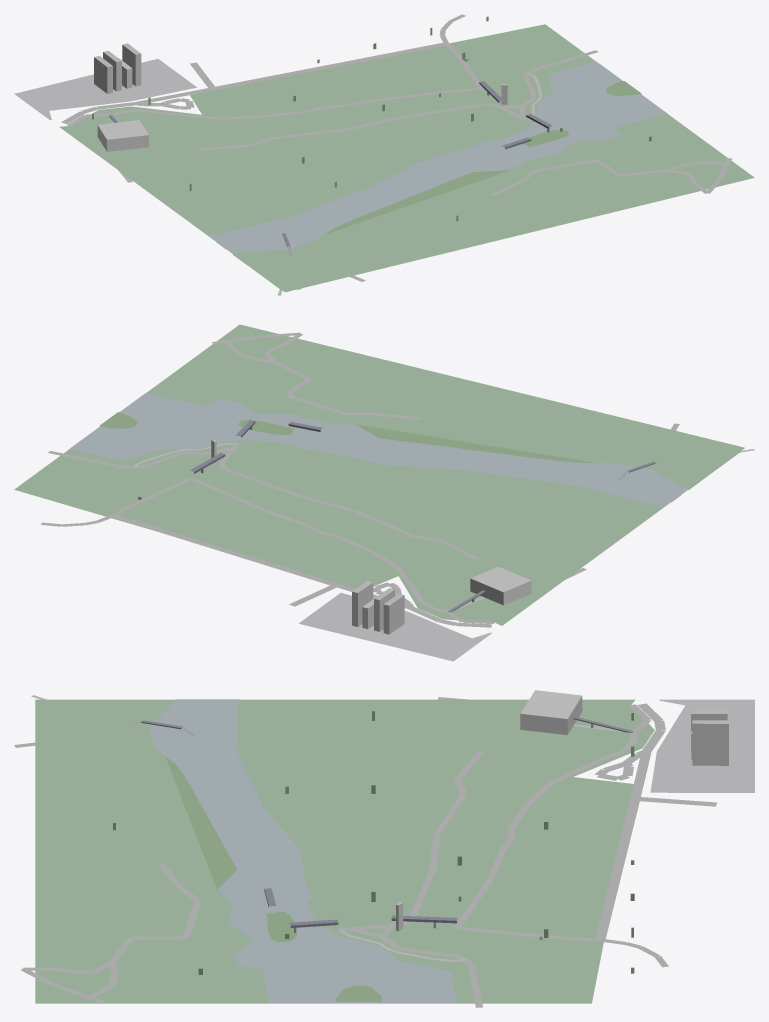
3 views of the same model, one above another, from view 1: azimuth 30°, elevation 25°; view 2: azimuth 150°, elevation 25°; view 3: azimuth 270°, elevation 25° (orthographic). The views are drawn at different scales.
Size of the model in its own units: 519 by 33.71 by 515.
